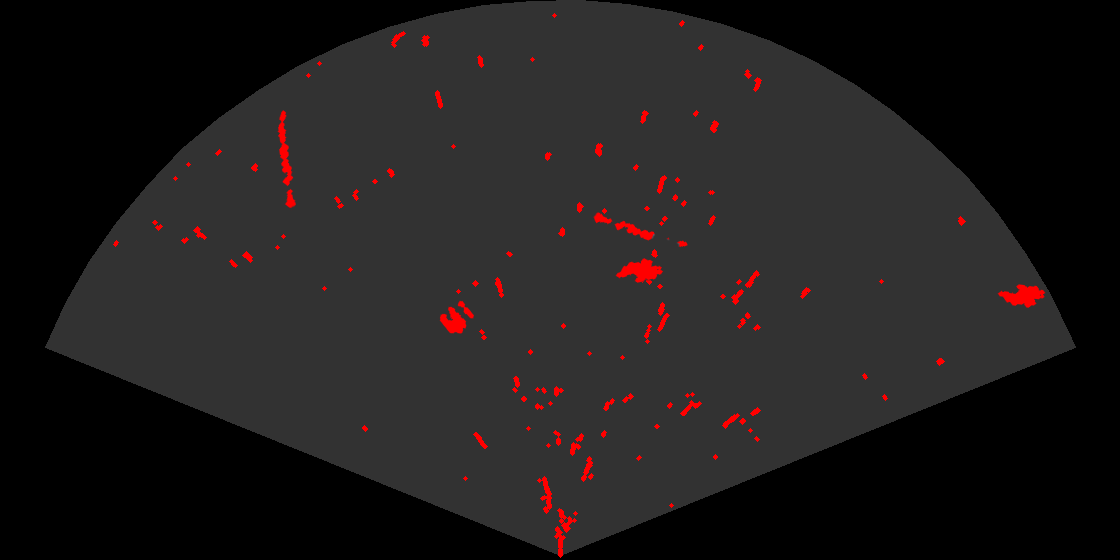AUV: (614, 257, 665, 284), (996, 283, 1047, 309)
ball: (438, 299, 476, 335)
chain: (592, 211, 689, 249), (276, 109, 297, 211)
